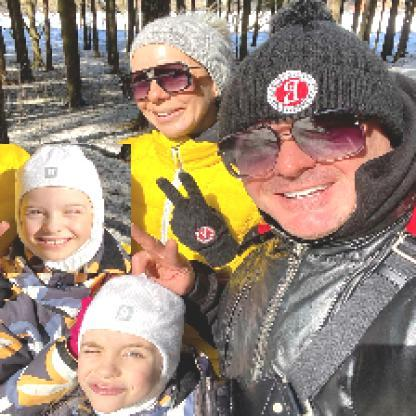child: (1, 272, 204, 416), (1, 145, 133, 275)
